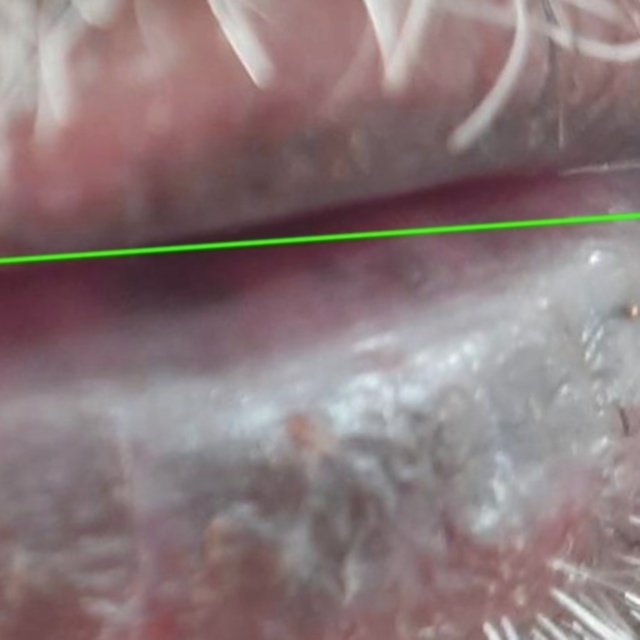Contact Dermatitis: (0, 0, 639, 260)
